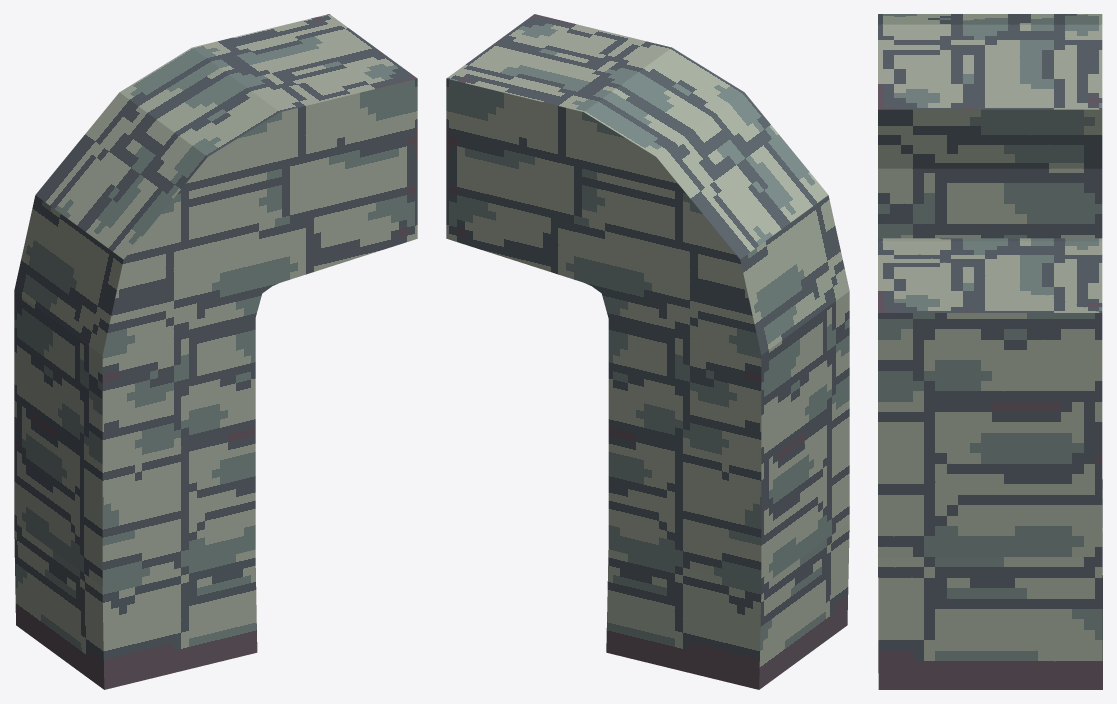
File: door_frame.glb
3 renders of one model, left to right at view 1: azimuth 30°, elevation 25°; view 2: azimuth 150°, elevation 25°; view 3: azimuth 270°, elevation 25°, orthographic. The views are drawn at different scales.
Parts seen in each view (by area): view 1: Cube.004; view 2: Cube.004; view 3: Cube.004.
Boxes of the visible parts, box(x1,y1,x2,y2) form: Cube.004: box(14, 14, 417, 689); Cube.004: box(446, 14, 849, 689); Cube.004: box(878, 14, 1102, 689).
Size of the model in its own units: 4.12 by 6.68 by 2.
1 material, 1 textured.
